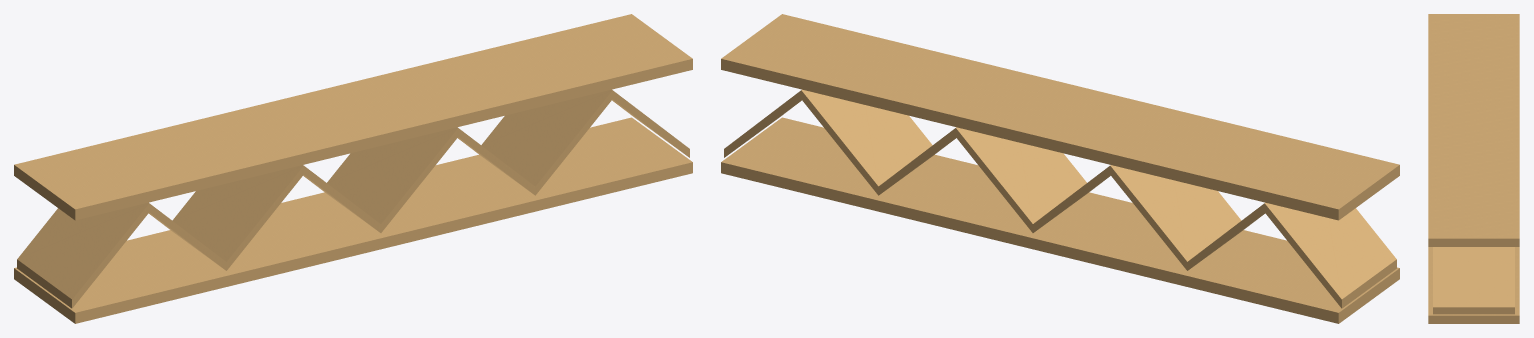
The model's file is fluted-edge-half.fbx.
3 renders of one model, left to right at view 1: azimuth 30°, elevation 25°; view 2: azimuth 150°, elevation 25°; view 3: azimuth 270°, elevation 25°, orthographic. The views are drawn at different scales.
Visible parts, largest first — view 1: fluted-edge-half; view 2: fluted-edge-half; view 3: fluted-edge-half.
Part boxes in pixels (left/top/right/bottom): fluted-edge-half: left=14, top=14, right=692, bottom=323; fluted-edge-half: left=721, top=14, right=1399, bottom=323; fluted-edge-half: left=1428, top=14, right=1519, bottom=323.
Bounding box in the file's own units: 700 × 124 × 120.
1 material, 1 textured.
